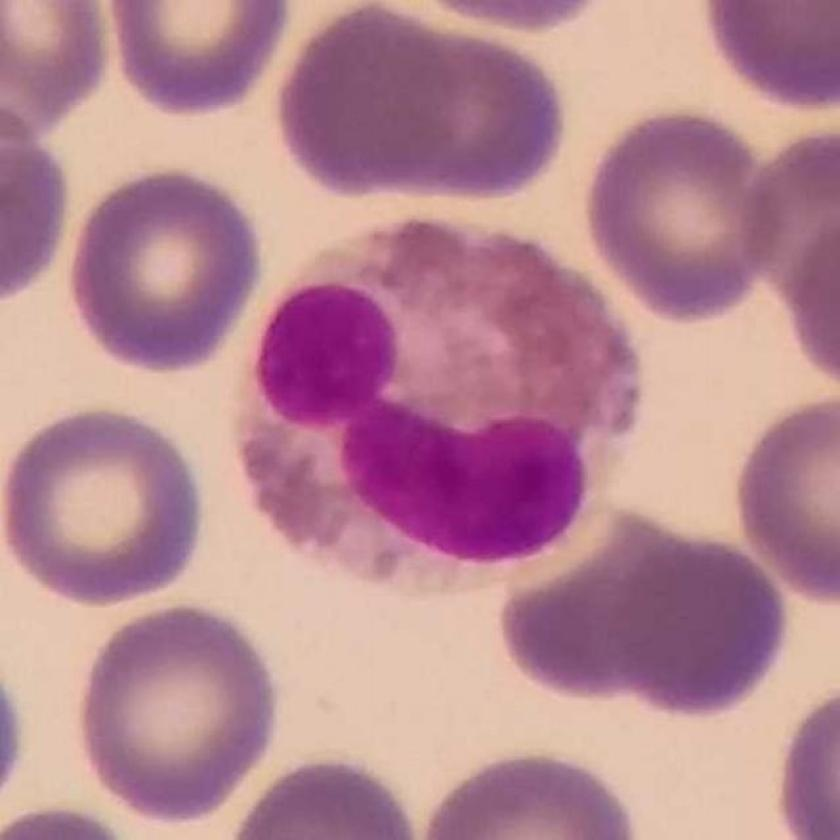eosinophil: (226, 200, 655, 601)
